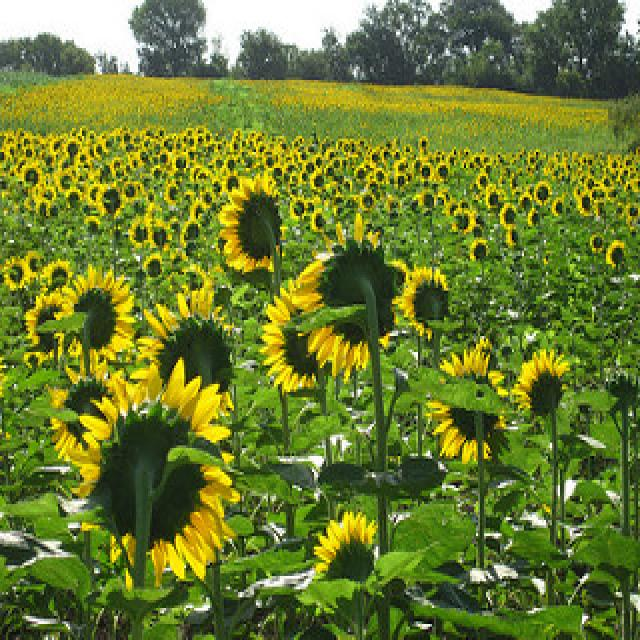sunflower: (87, 386, 229, 583), (302, 234, 390, 371), (438, 337, 509, 471), (56, 265, 138, 372), (158, 303, 237, 408), (220, 180, 289, 274), (259, 288, 321, 390), (317, 514, 378, 593), (401, 262, 454, 350), (518, 345, 570, 427)
